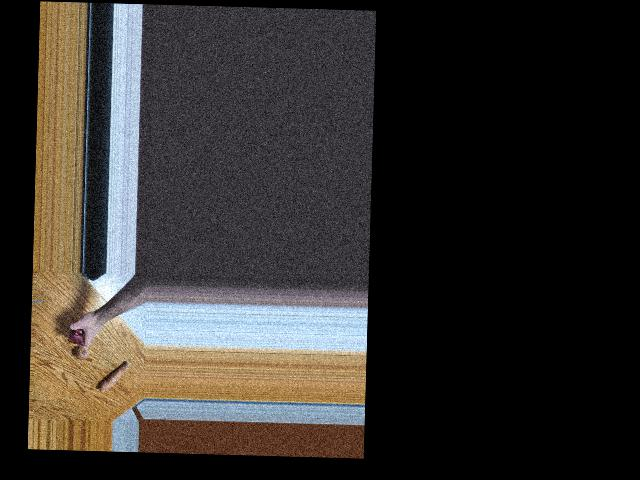onion: (74, 343, 90, 361)
